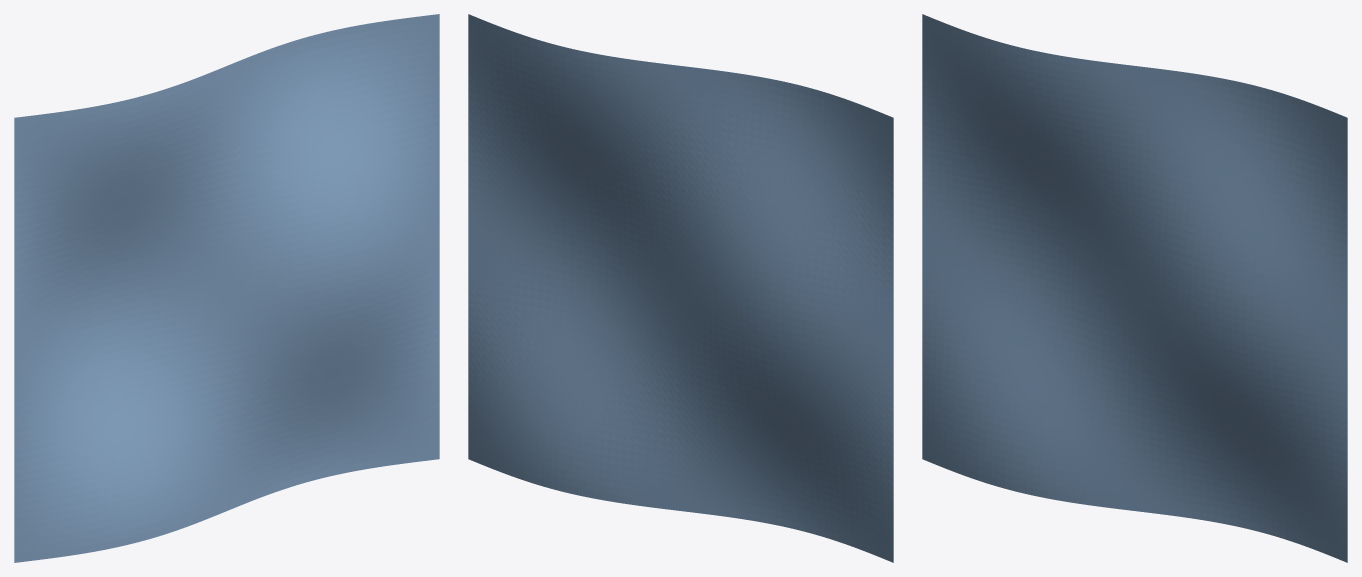
The picture shows the model from 3 angles, left to right: view 1: azimuth 30°, elevation 25°; view 2: azimuth 150°, elevation 25°; view 3: azimuth 330°, elevation 25°; orthographic projection.
Bounding box in the file's own units: 2 × 2 × 0.16.
